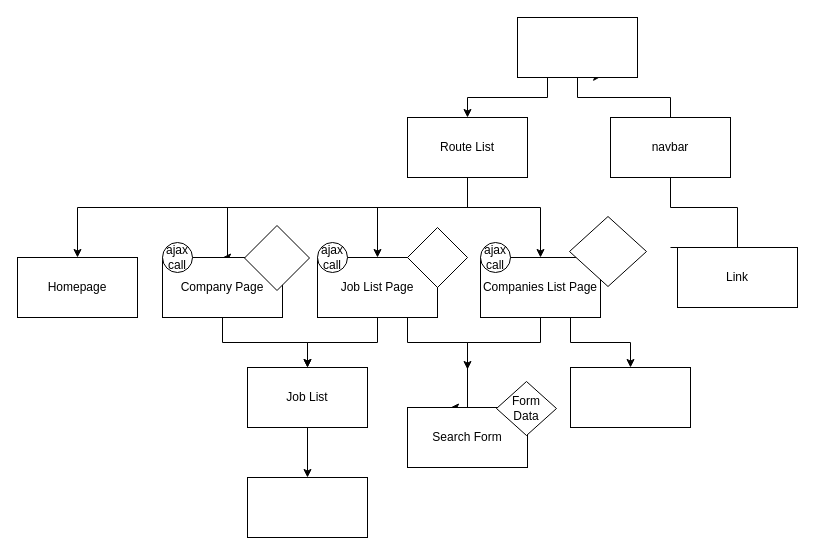
This 815x555 diagram has some shape labels left out. The centre of each missing label's shape, as x and y in pixels:
"App" belongs at [577,47].
"companies" belongs at [607,251].
"company" belongs at [277,257].
"Company Card" belongs at [630,397].
"Job Card" belongs at [307,507].
"jobs" belongs at [437,257].
